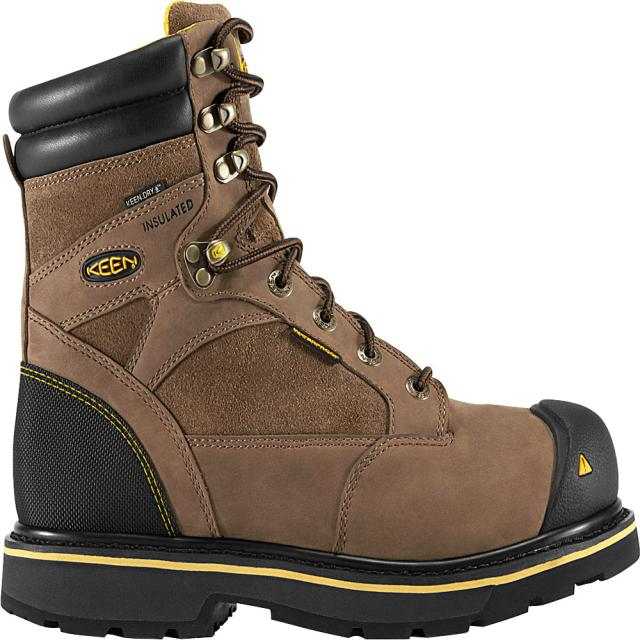boot: (4, 27, 626, 633)
